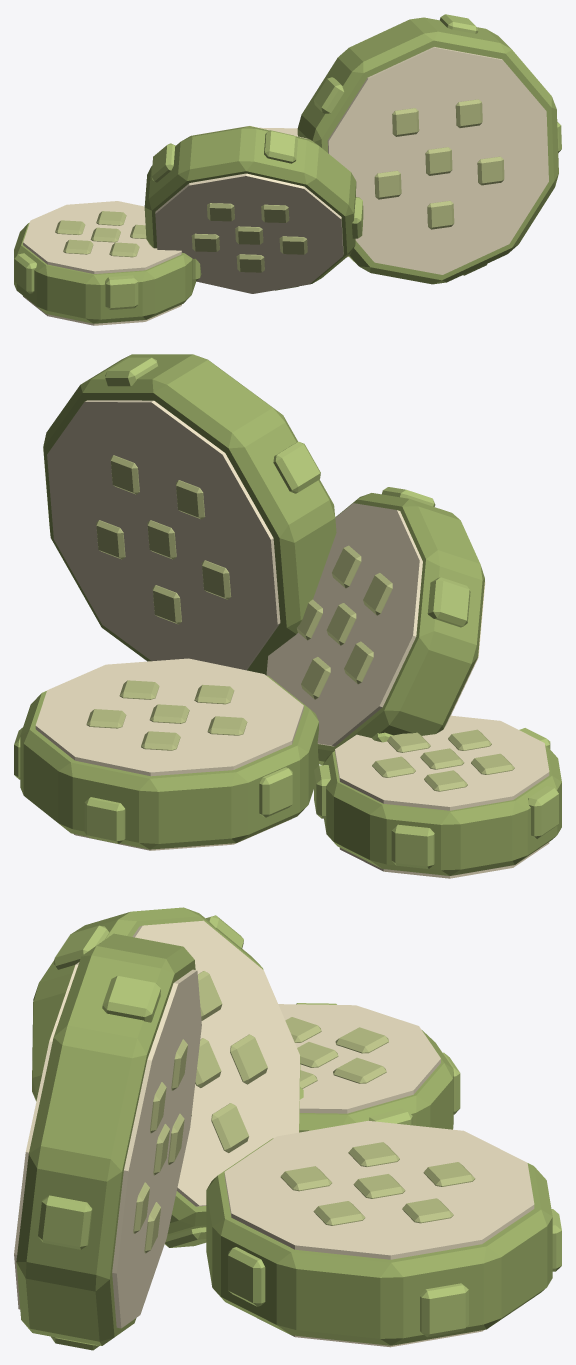
File: DesertSunDriedSlice.fbx
3 renders of one model, top to bottom at view 1: azimuth 30°, elevation 25°; view 2: azimuth 150°, elevation 25°; view 3: azimuth 270°, elevation 25°, orthographic. The views are drawn at different scales.
Parts seen in each view (by area): view 1: DesertSunDriedSlice.Faces, DesertSunDriedSlice.Rims, DesertSunDriedSlice.Seeds, DesertSunDriedSlice.RimStuds; view 2: DesertSunDriedSlice.Faces, DesertSunDriedSlice.Rims, DesertSunDriedSlice.Seeds, DesertSunDriedSlice.RimStuds; view 3: DesertSunDriedSlice.Rims, DesertSunDriedSlice.Faces, DesertSunDriedSlice.Seeds, DesertSunDriedSlice.RimStuds.
Part boxes in pixels (x1,y1,x2,y2): DesertSunDriedSlice.Faces: [23, 47, 548, 325]; DesertSunDriedSlice.Rims: [14, 17, 558, 323]; DesertSunDriedSlice.Seeds: [55, 99, 504, 272]; DesertSunDriedSlice.RimStuds: [14, 14, 561, 309]; DesertSunDriedSlice.Faces: [35, 400, 549, 878]; DesertSunDriedSlice.Rims: [20, 354, 561, 875]; DesertSunDriedSlice.Seeds: [86, 455, 514, 791]; DesertSunDriedSlice.RimStuds: [14, 357, 558, 868]; DesertSunDriedSlice.Rims: [16, 907, 552, 1345]; DesertSunDriedSlice.Faces: [14, 920, 534, 1347]; DesertSunDriedSlice.Seeds: [133, 971, 475, 1253]; DesertSunDriedSlice.RimStuds: [38, 915, 561, 1350].
Bounding box in the file's own units: 3.36 × 1.76 × 2.26.
